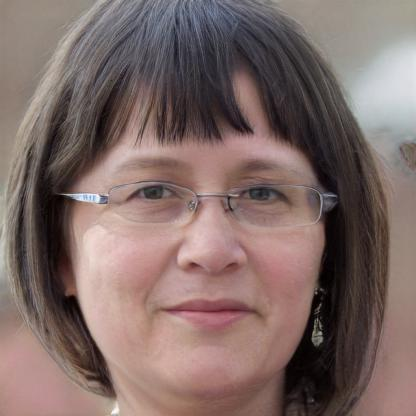glasses: (83, 179, 329, 236)
